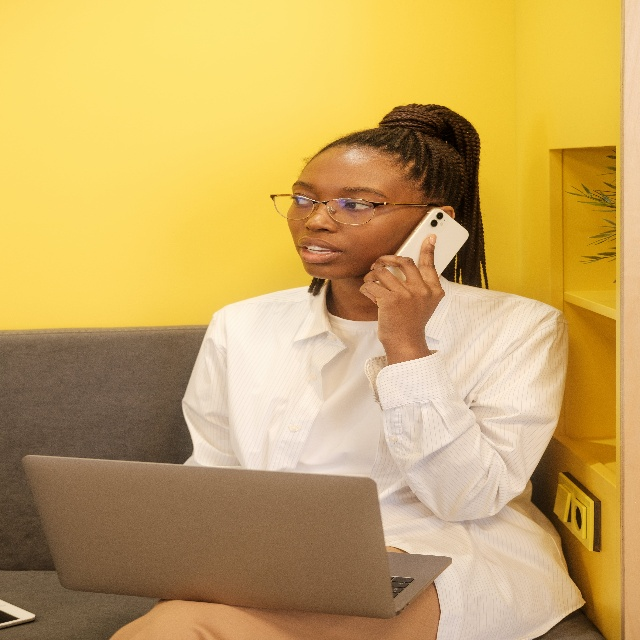Gafas: (268, 188, 381, 234)
Sin_guantes: (359, 237, 447, 343)
